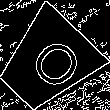O_SW: (14, 29, 81, 96)
